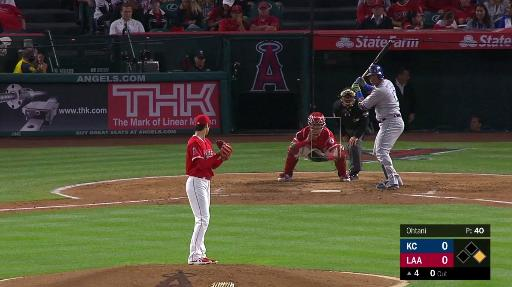pitcher: (185, 114, 233, 266)
